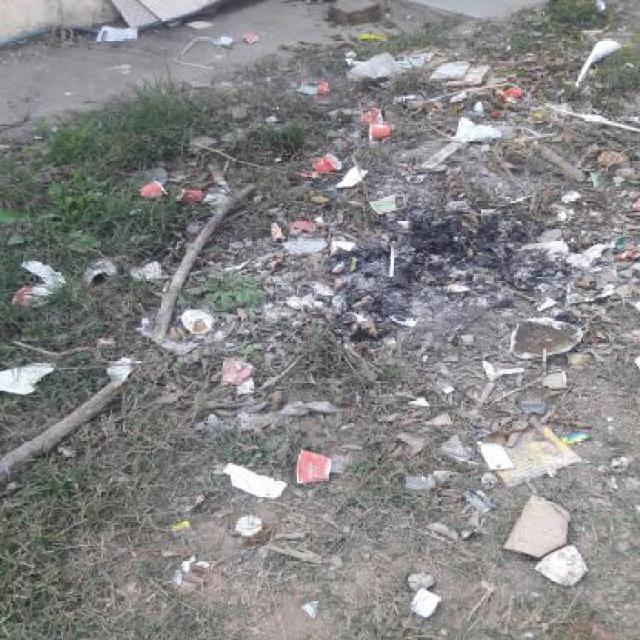garbage: (308, 34, 630, 393), (272, 412, 604, 584), (114, 0, 312, 86), (128, 171, 248, 210), (345, 586, 462, 616)
